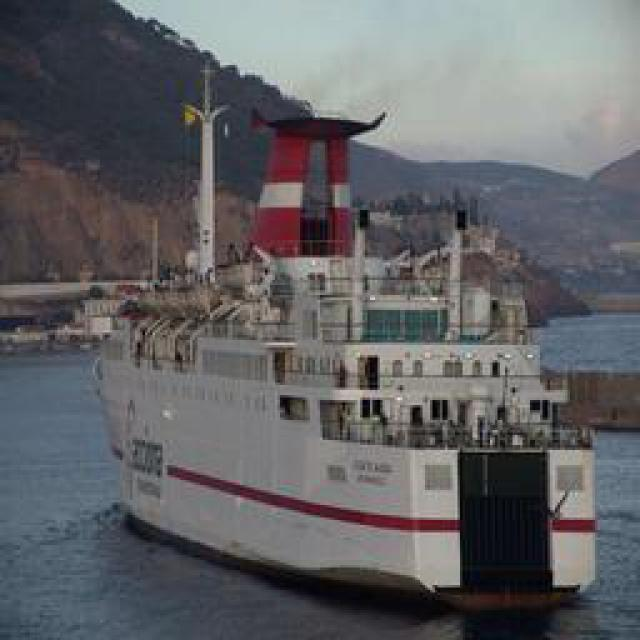Ship: (104, 154, 614, 609)
